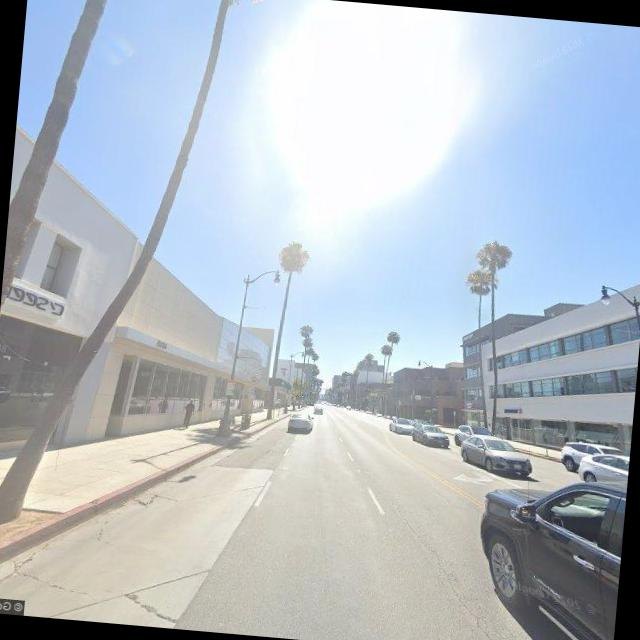pothole: (384, 502, 513, 640)
